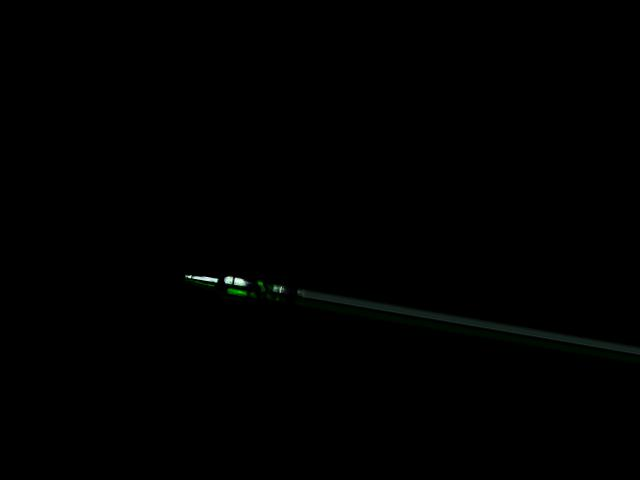beer: (182, 267, 283, 307)
